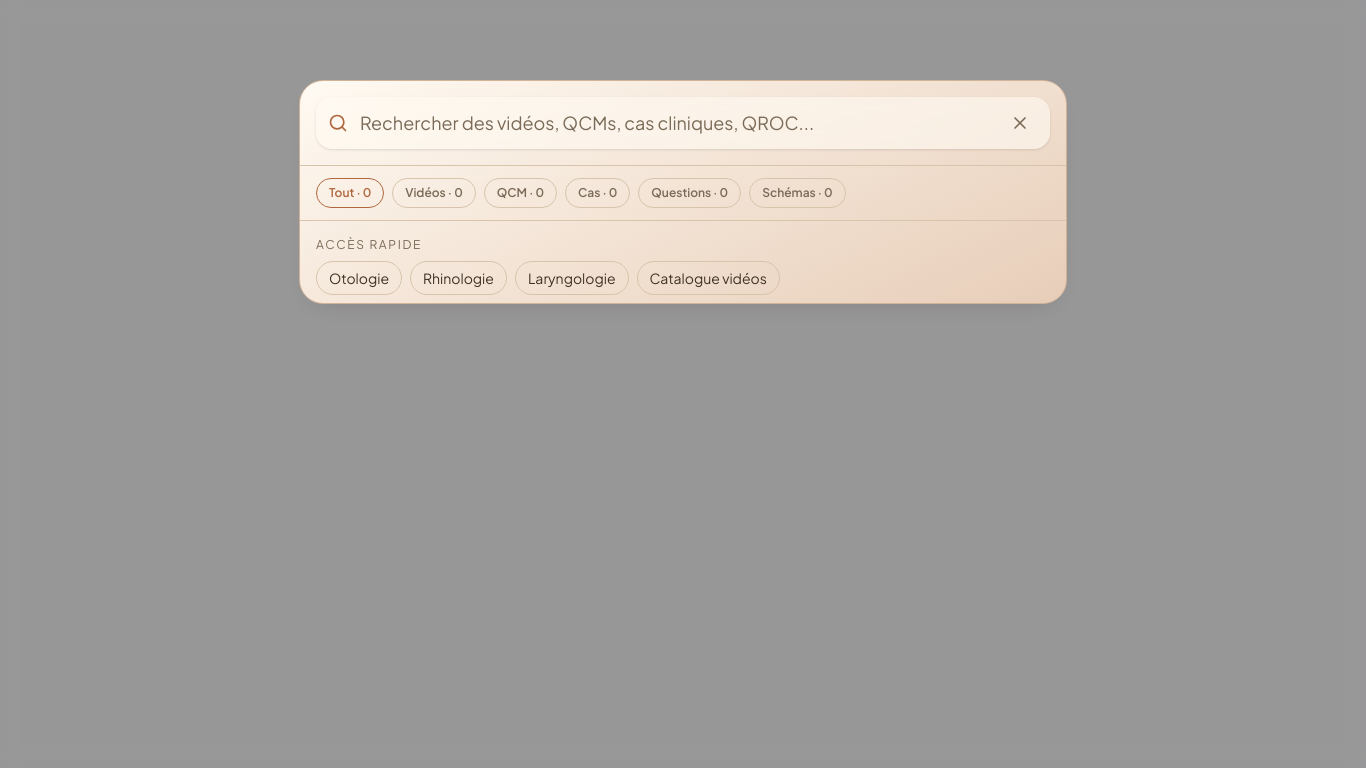
SearchModal › shows explicit error when result has no associated videoId
Type "question" into the field with placeholder "Rechercher des vidéos, QCMs, cas cliniques, QROC..." at x=675, y=123, box [360,109,990,137]
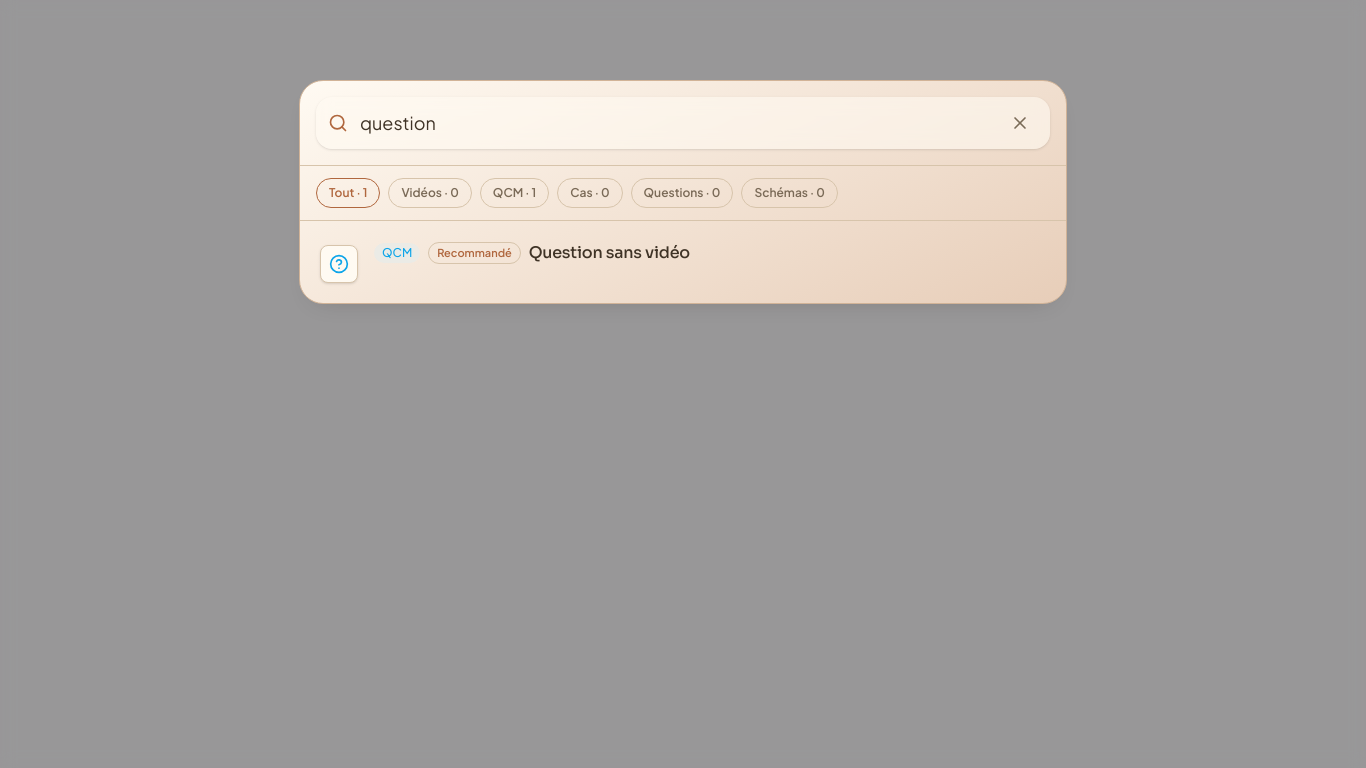
Expected: the heading "Question sans vidéo" is shown
Click the heading "Question sans vidéo" at x=609, y=253, box [529,241,690,265]
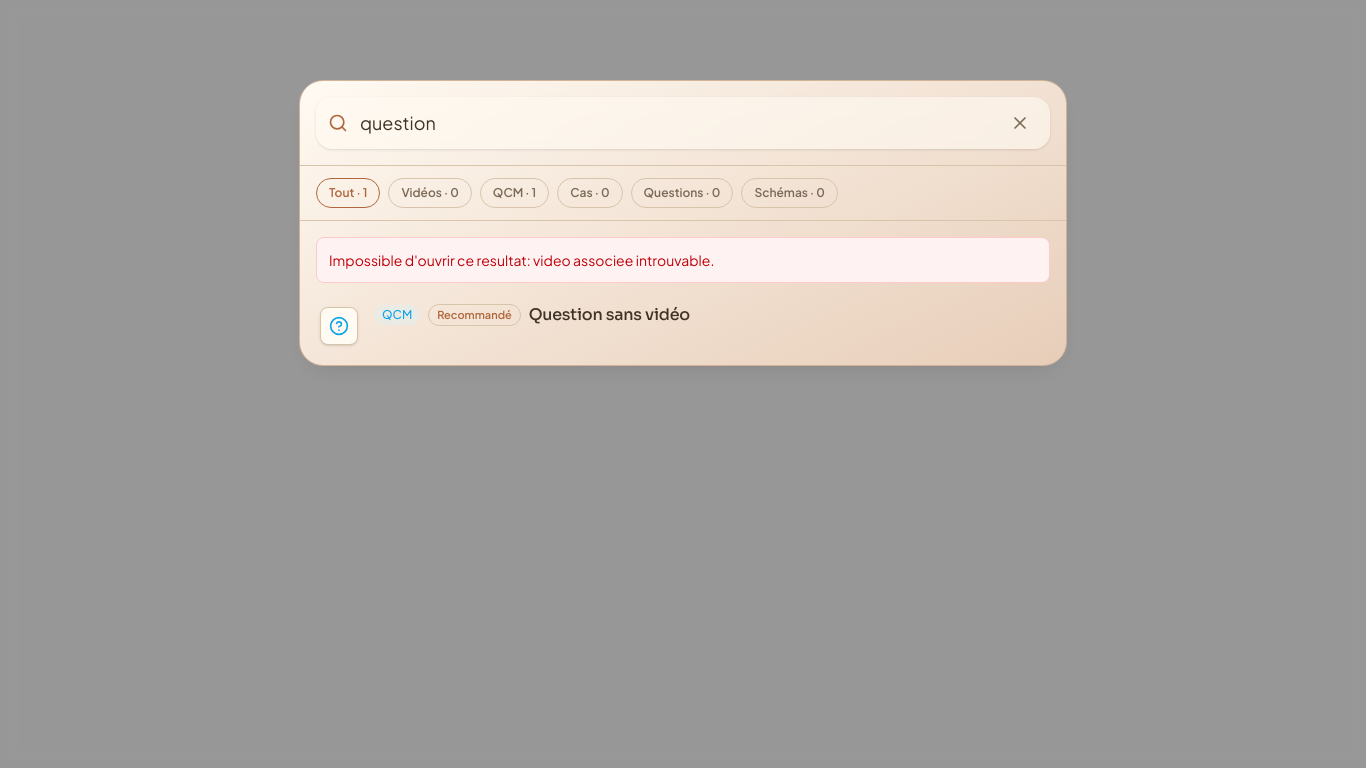
Expected: the text "Impossible d'ouvrir ce resultat: video associee introuvable." is shown, [316,237,1050,283]
